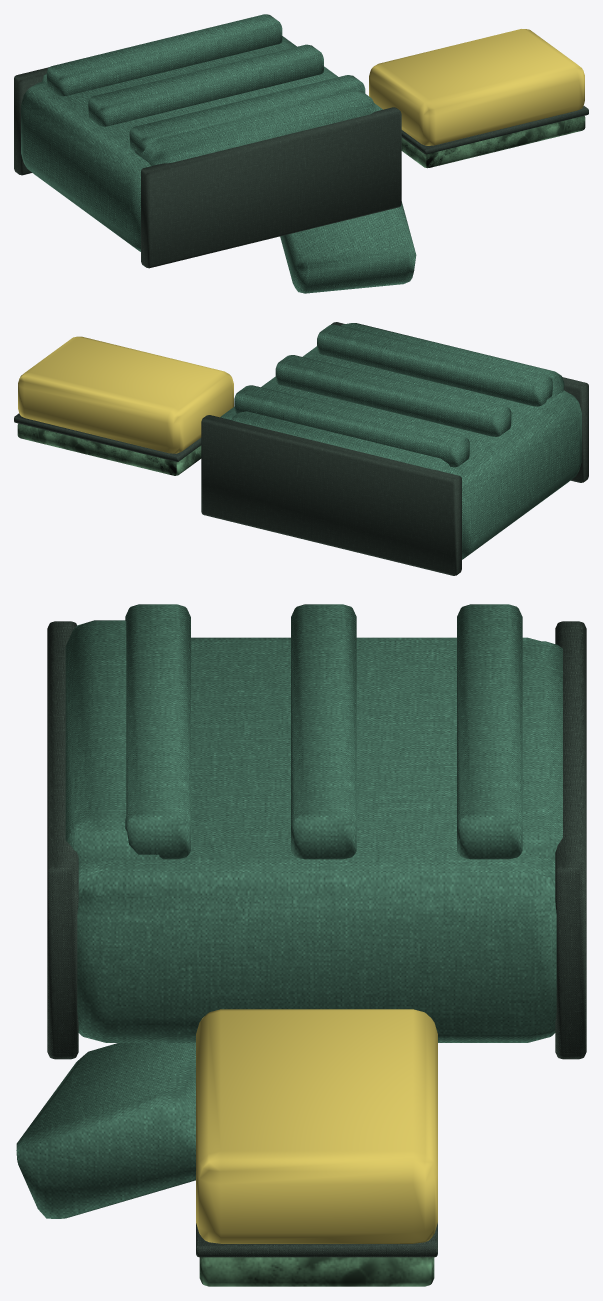
The model's file is asset_077_cleaning_cloth_and_sponge_set_fp.glb.
3 views of the same model, one above another, from view 1: azimuth 30°, elevation 25°; view 2: azimuth 150°, elevation 25°; view 3: azimuth 270°, elevation 25° (orthographic). The views are drawn at different scales.
Parts seen in each view (by area): view 1: MESH_ClothHemA, MESH_SpongeFoam, MESH_ClothBody, MESH_ClothCornerFlap, MESH_ClothRidge1, MESH_ClothRidge2, MESH_ClothFoldA, MESH_ClothRidge0, MESH_SpongeScourPad, MESH_SpongeSeam, MESH_ClothHemB; view 2: MESH_ClothHemB, MESH_SpongeFoam, MESH_ClothBody, MESH_ClothRidge1, MESH_ClothRidge0, MESH_ClothRidge2, MESH_ClothFoldB, MESH_SpongeScourPad, MESH_ClothFoldA, MESH_SpongeSeam, MESH_ClothHemA; view 3: MESH_ClothBody, MESH_SpongeFoam, MESH_ClothCornerFlap, MESH_ClothRidge2, MESH_ClothRidge1, MESH_ClothRidge0, MESH_ClothFoldA, MESH_ClothHemB, MESH_ClothHemA, MESH_ClothFoldB, MESH_SpongeScourPad, MESH_SpongeSeam.
Part boxes in pixels (<box>): MESH_ClothHemA: <box>141,107,401,268</box>; MESH_SpongeFoam: <box>369,29,584,145</box>; MESH_ClothBody: <box>21,36,382,251</box>; MESH_ClothCornerFlap: <box>280,201,416,293</box>; MESH_ClothRidge1: <box>88,44,323,126</box>; MESH_ClothRidge2: <box>47,14,282,96</box>; MESH_ClothFoldA: <box>134,91,376,165</box>; MESH_ClothRidge0: <box>129,75,365,153</box>; MESH_SpongeScourPad: <box>401,116,585,168</box>; MESH_SpongeSeam: <box>401,106,588,154</box>; MESH_ClothHemB: <box>14,14,267,175</box>; MESH_ClothHemB: <box>201,415,461,575</box>; MESH_SpongeFoam: <box>18,336,233,453</box>; MESH_ClothBody: <box>220,346,581,559</box>; MESH_ClothRidge1: <box>275,355,511,436</box>; MESH_ClothRidge0: <box>317,324,552,406</box>; MESH_ClothRidge2: <box>234,385,469,467</box>; MESH_ClothFoldB: <box>231,411,449,472</box>; MESH_SpongeScourPad: <box>17,423,201,475</box>; MESH_ClothFoldA: <box>341,323,564,402</box>; MESH_SpongeSeam: <box>14,413,201,461</box>; MESH_ClothHemA: <box>331,322,588,482</box>; MESH_ClothBody: <box>77,637,556,1042</box>; MESH_SpongeFoam: <box>196,1009,437,1243</box>; MESH_ClothCornerFlap: <box>16,1043,195,1218</box>; MESH_ClothRidge2: <box>457,604,522,859</box>; MESH_ClothRidge1: <box>291,604,356,859</box>; MESH_ClothRidge0: <box>125,604,190,859</box>; MESH_ClothFoldA: <box>65,620,162,864</box>; MESH_ClothHemB: <box>555,621,586,1059</box>; MESH_ClothHemA: <box>47,621,78,1059</box>; MESH_ClothFoldB: <box>521,641,562,861</box>; MESH_SpongeScourPad: <box>199,1257,434,1286</box>; MESH_SpongeSeam: <box>196,1223,437,1257</box>.
Bounding box in the file's own units: 0.3225 × 0.122 × 0.165.
Materials: 4 (3 with a texture image).
